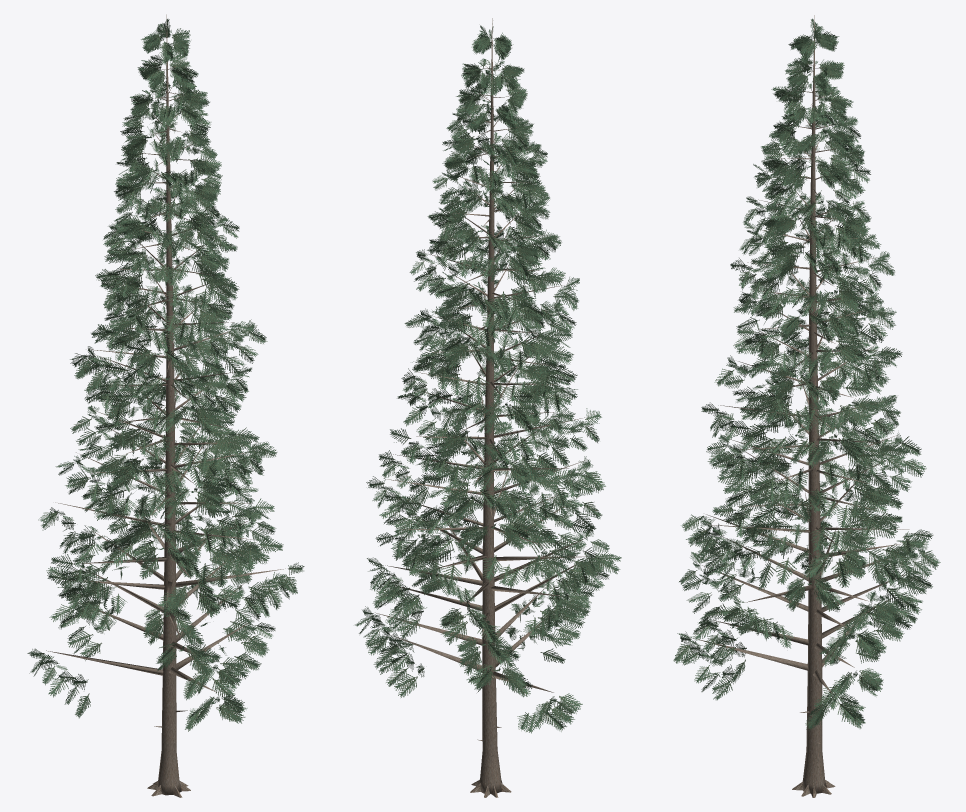
File: SS_Defect_CoarseBranch_Mature_01_LOD2.fbx
3 views of the same model, side by side, from view 1: azimuth 30°, elevation 25°; view 2: azimuth 150°, elevation 25°; view 3: azimuth 270°, elevation 25° (orthographic).
Visible parts, largest first — view 1: SS_Defect_CoarseBranch_Mature_01_LOD2_Foliage, SS_Defect_CoarseBranch_Mature_01_LOD2_Branches, SS_Defect_CoarseBranch_Mature_01_LOD2_Trunk; view 2: SS_Defect_CoarseBranch_Mature_01_LOD2_Foliage, SS_Defect_CoarseBranch_Mature_01_LOD2_Branches, SS_Defect_CoarseBranch_Mature_01_LOD2_Trunk; view 3: SS_Defect_CoarseBranch_Mature_01_LOD2_Foliage, SS_Defect_CoarseBranch_Mature_01_LOD2_Branches, SS_Defect_CoarseBranch_Mature_01_LOD2_Trunk.
Boxes of the visible parts, x1,y1,x2,y2 form: SS_Defect_CoarseBranch_Mature_01_LOD2_Foliage: (27,19,304,731); SS_Defect_CoarseBranch_Mature_01_LOD2_Branches: (46,32,285,727); SS_Defect_CoarseBranch_Mature_01_LOD2_Trunk: (147,14,190,797); SS_Defect_CoarseBranch_Mature_01_LOD2_Foliage: (355,25,621,733); SS_Defect_CoarseBranch_Mature_01_LOD2_Branches: (375,38,588,741); SS_Defect_CoarseBranch_Mature_01_LOD2_Trunk: (470,18,511,797); SS_Defect_CoarseBranch_Mature_01_LOD2_Foliage: (673,18,940,730); SS_Defect_CoarseBranch_Mature_01_LOD2_Branches: (694,63,909,743); SS_Defect_CoarseBranch_Mature_01_LOD2_Trunk: (792,15,835,797).
Size of the model in its own units: 832 by 2500 by 856.
